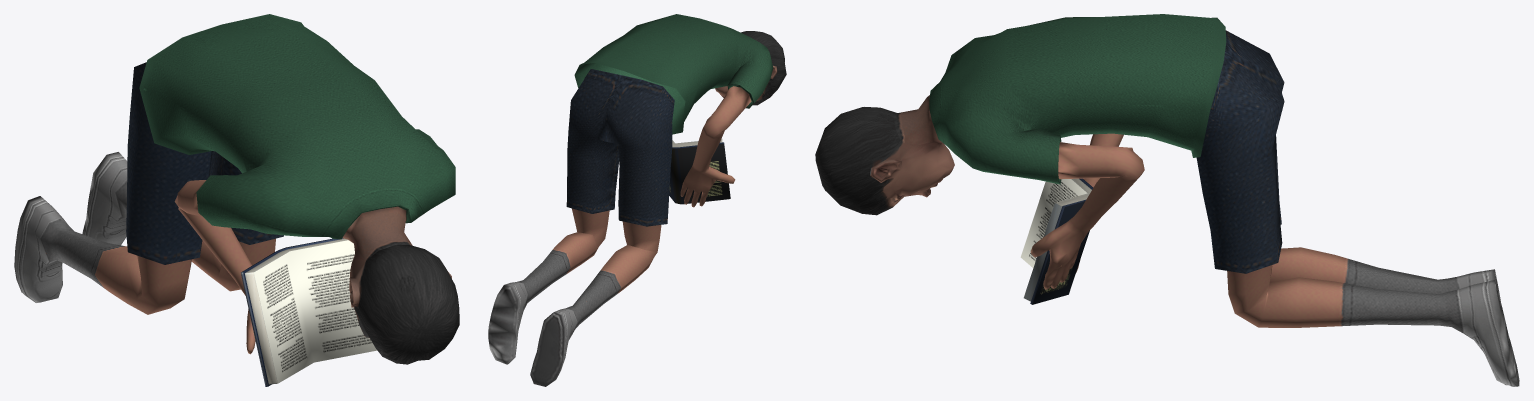
File: VisitorKidSit.obj
3 views of the same model, side by side, from view 1: azimuth 30°, elevation 25°; view 2: azimuth 150°, elevation 25°; view 3: azimuth 270°, elevation 25° (orthographic). The views are drawn at different scales.
Parts seen in each view (by area): view 1: VisitorKidSit_VisitorKid.001; view 2: VisitorKidSit_VisitorKid.001; view 3: VisitorKidSit_VisitorKid.001.
Part boxes in pixels (<box>): VisitorKidSit_VisitorKid.001: <box>14,14,459,386</box>; VisitorKidSit_VisitorKid.001: <box>488,14,786,386</box>; VisitorKidSit_VisitorKid.001: <box>815,14,1519,386</box>.
Bounding box in the file's own units: 0.3084 × 0.4953 × 0.8759.
Materials: 2 (2 with a texture image).
